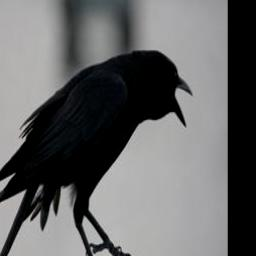Crow: (0, 48, 194, 256)
